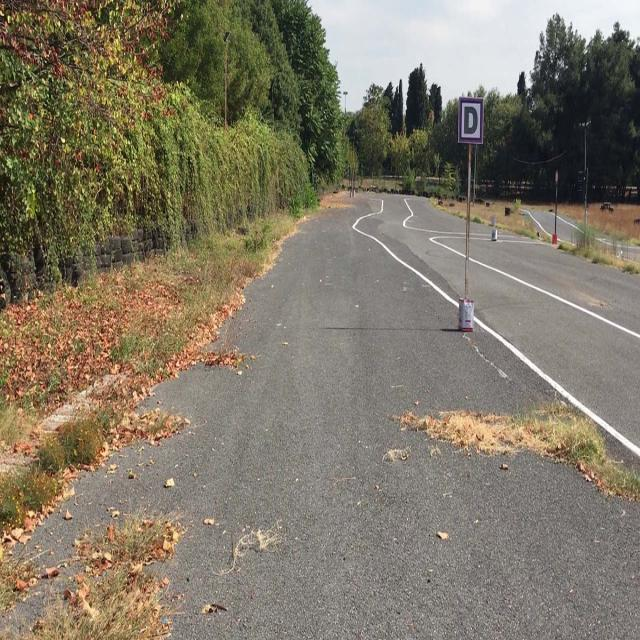durak: (460, 98, 482, 143)
